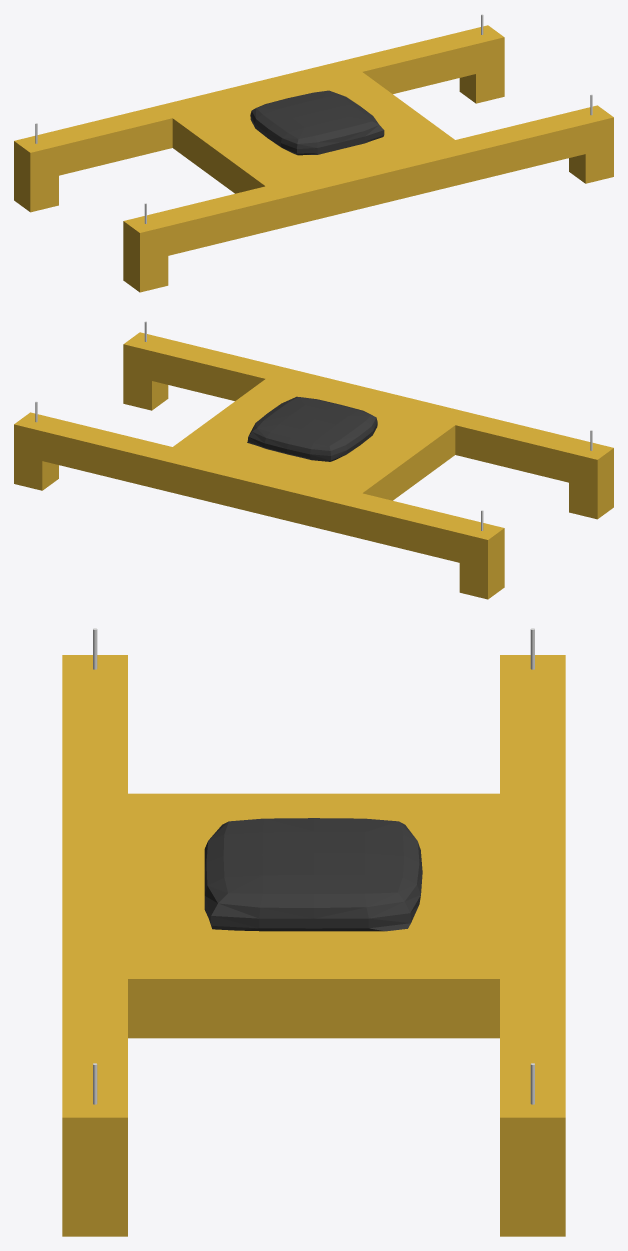
The model's file is Drone_new.dae.
The picture shows the model from 3 angles, top to bottom: view 1: azimuth 30°, elevation 25°; view 2: azimuth 150°, elevation 25°; view 3: azimuth 270°, elevation 25°; orthographic projection. The views are drawn at different scales.
Visible parts, largest first — view 1: Cube.001, Cube; view 2: Cube.001, Cube; view 3: Cube.001, Cube.
Part boxes in pixels (x1=…): Cube.001: x1=14, y1=25, x2=613, y2=292; Cube: x1=250, y1=90, x2=384, y2=155; Cube.001: x1=14, y1=332, x2=613, y2=599; Cube: x1=247, y1=396, x2=377, y2=461; Cube.001: x1=62, y1=655, x2=565, y2=1236; Cube: x1=204, y1=818, x2=422, y2=931.
Size of the model in its own units: 0.5 by 0.23 by 0.08.
